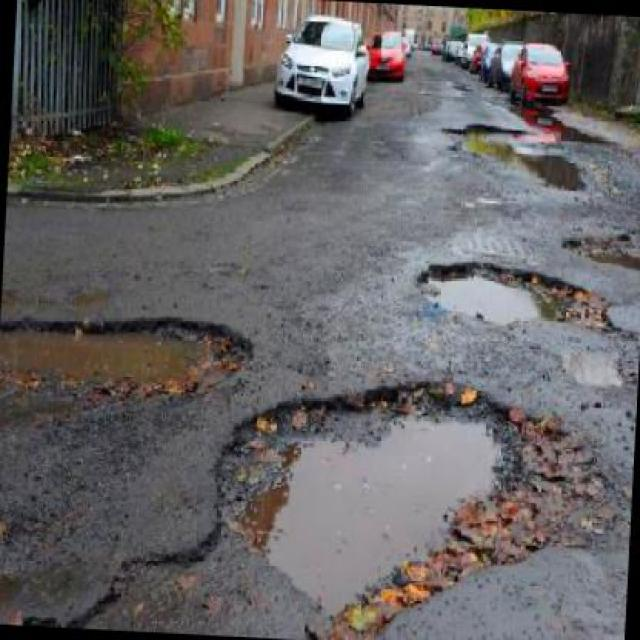pothole1: (195, 358, 612, 638), (0, 301, 258, 412), (410, 252, 624, 340), (439, 118, 530, 164), (560, 224, 638, 276), (522, 142, 592, 198)
